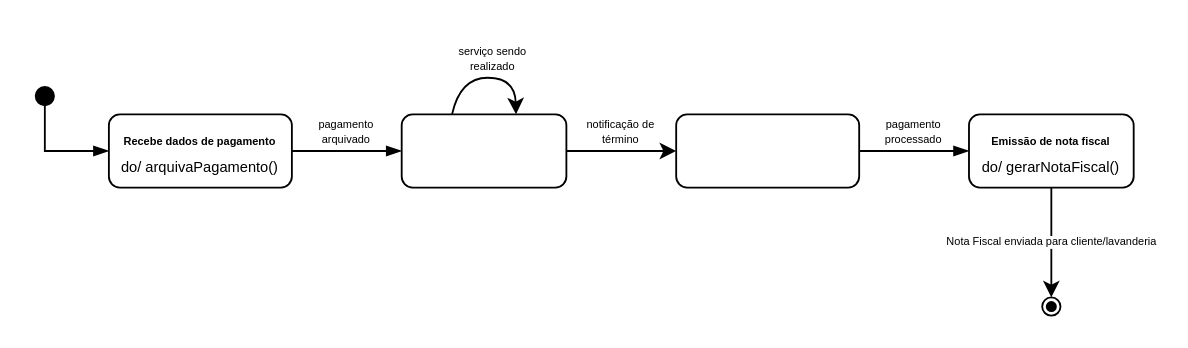
The diagram is 1188 pixels wide and 348 high, and some of its shapes have lost their labels. The shapes that lost their labels are listed below. From the top down, each one's centre as x and y in pixels, then its label:
the point at 483,150: Aguardando termino do serviço do/ notificarInicio()
the point at 766,150: Confirmação de termino de serviço do/ processaPagamento()
